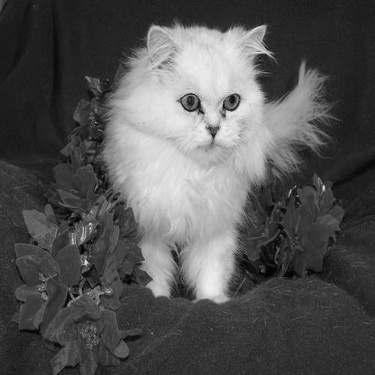cat: (107, 16, 332, 314)
